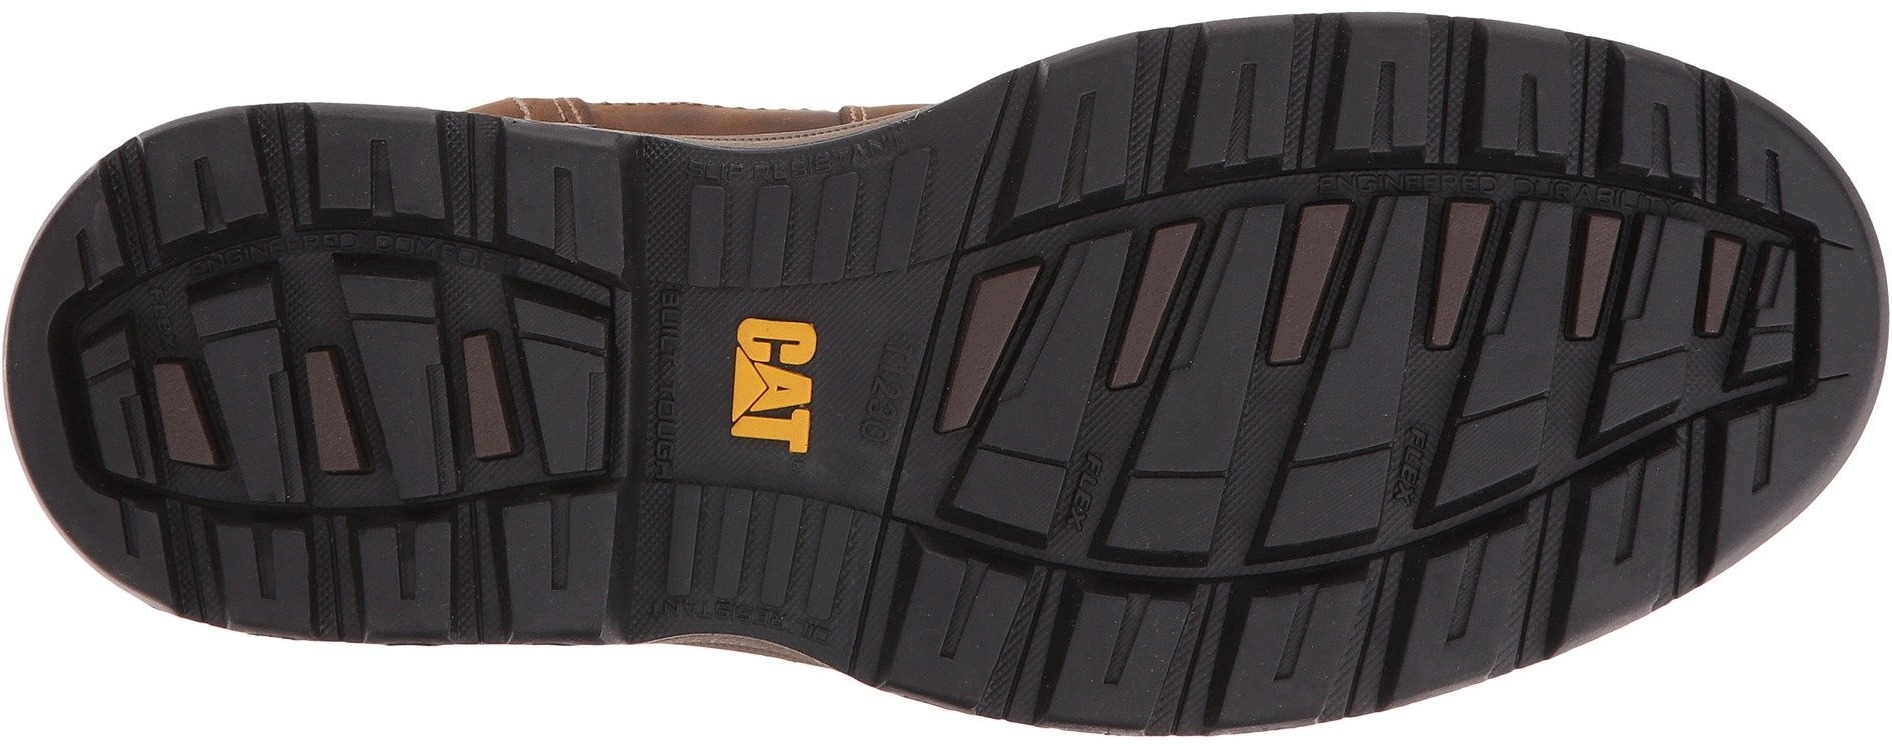quad: (913, 183, 1808, 578), (71, 84, 621, 672), (976, 4, 1725, 251), (653, 465, 880, 629)
text: (716, 300, 828, 471), (646, 283, 687, 484)
